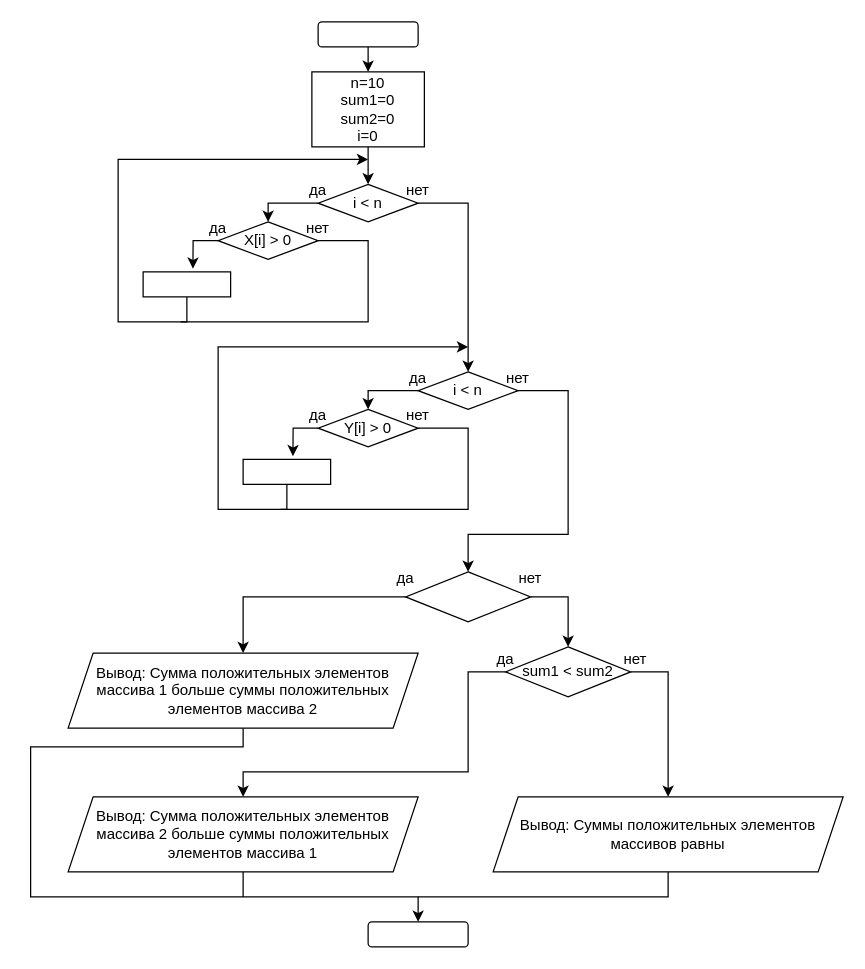
Image size: 865x969. Some labels were removed from this diagram. Each missing label, with the box of its shape:
sum1 > sum2: (404, 571, 531, 622)
sum1+=X[i]: (142, 271, 231, 297)
sum2+=Y[i]: (242, 458, 331, 484)
Конец: (367, 921, 468, 947)
Начало: (317, 21, 418, 47)
